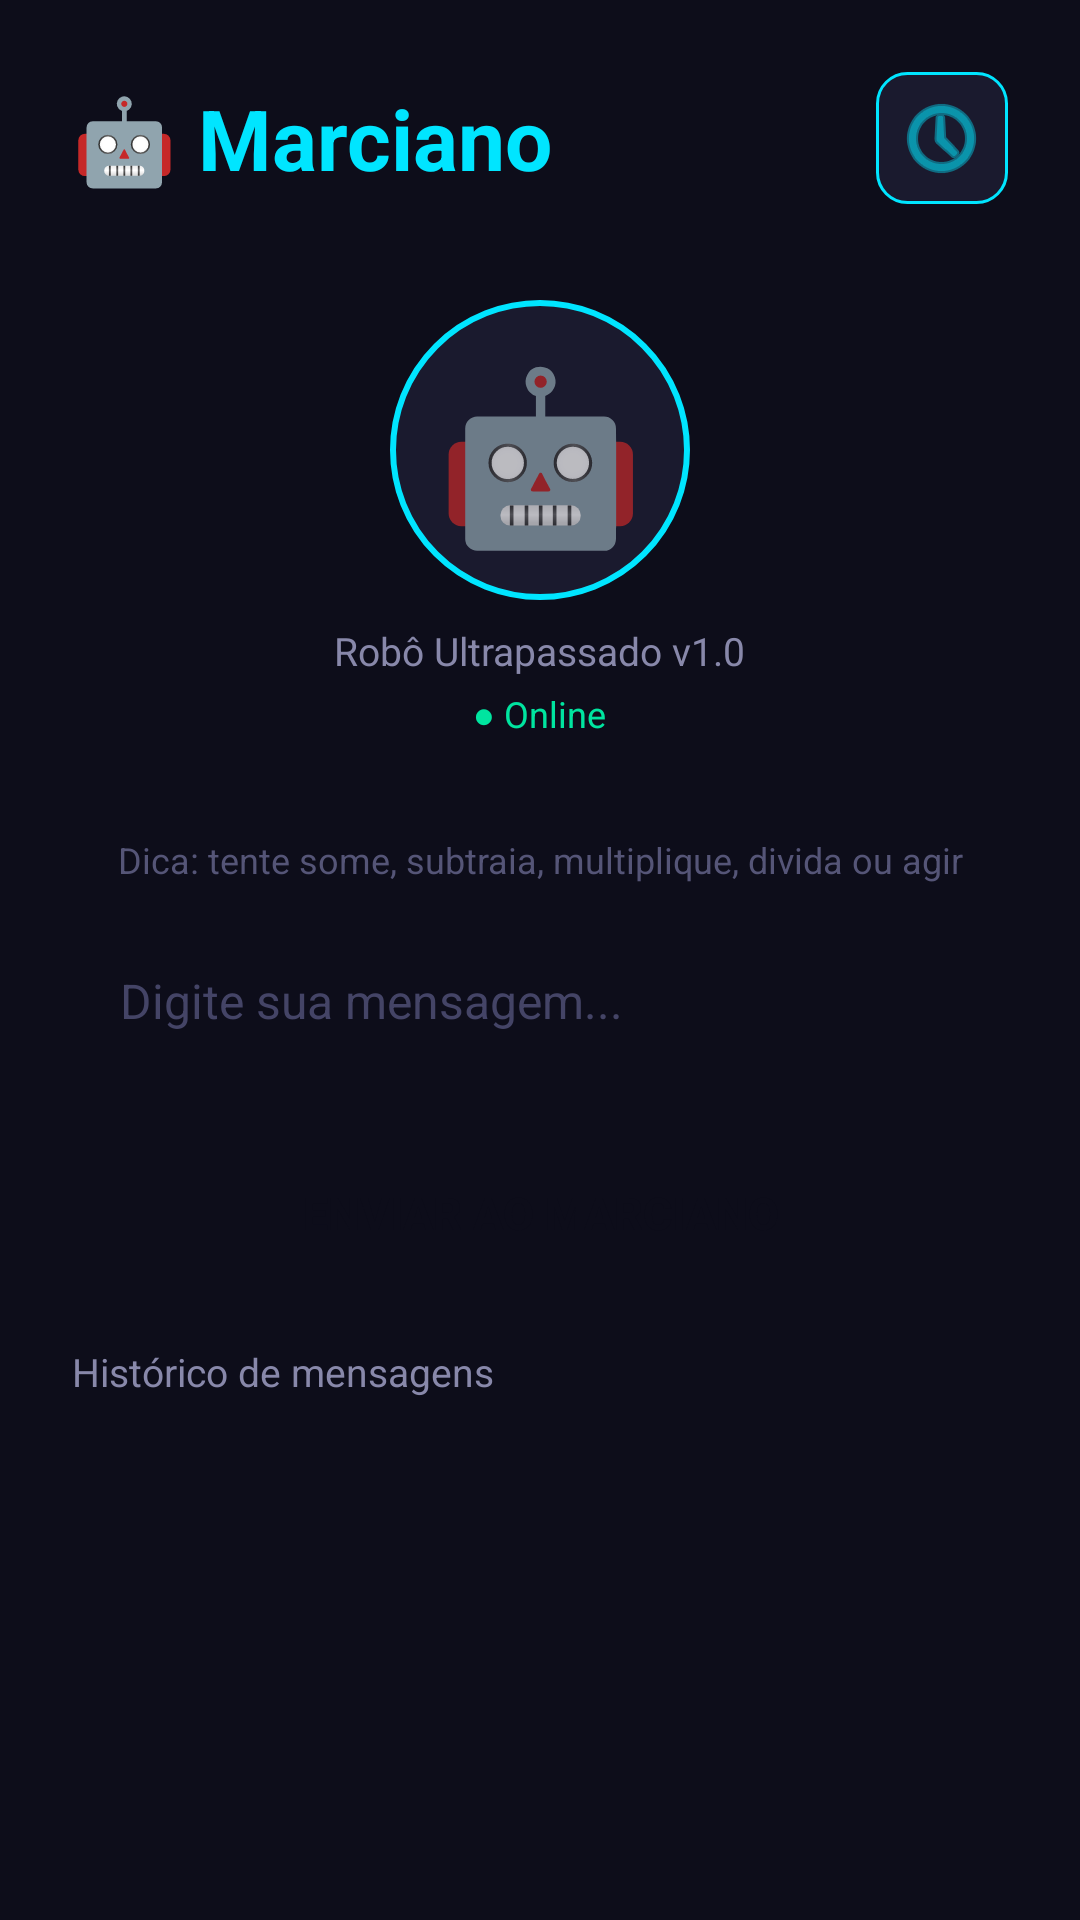

Locate icon controls on the screen. Image size 1080*1920, boxes as [x1=x1, y1=y1, x2=x2, y2=y2].
Histórico: [x1=876, y1=72, x2=1008, y2=204]
